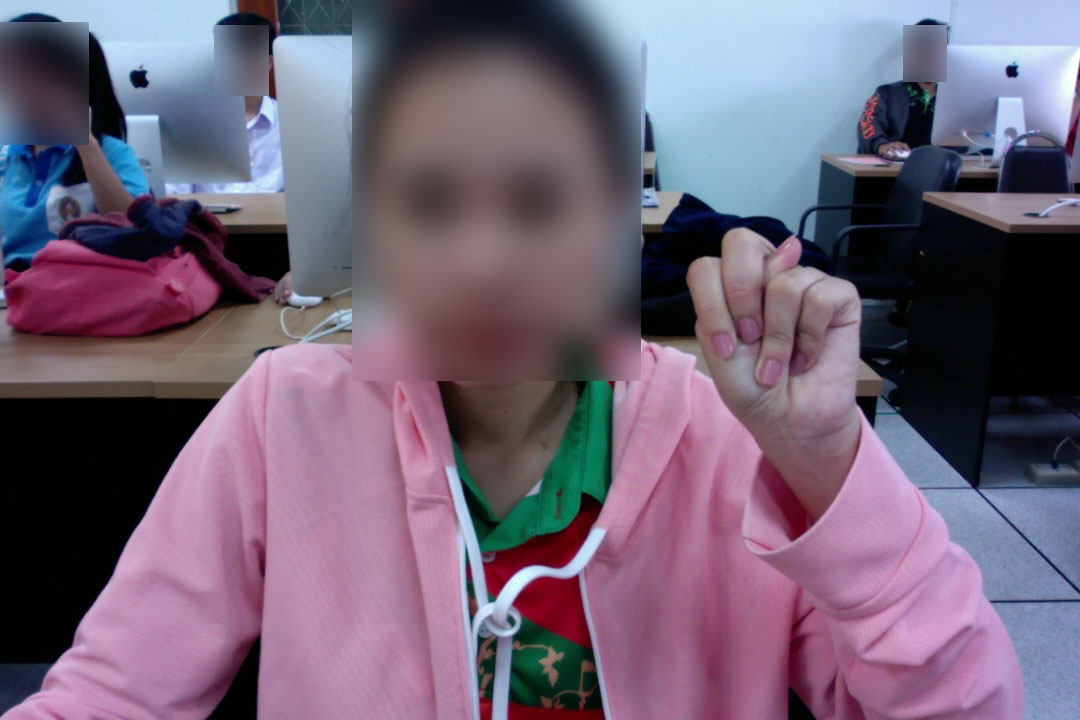nor: (678, 220, 870, 459)
